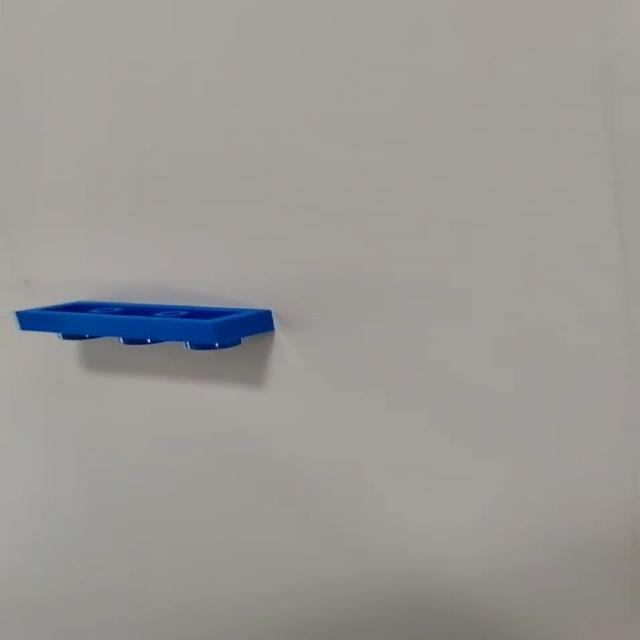C3x1x0: (16, 298, 278, 352)
